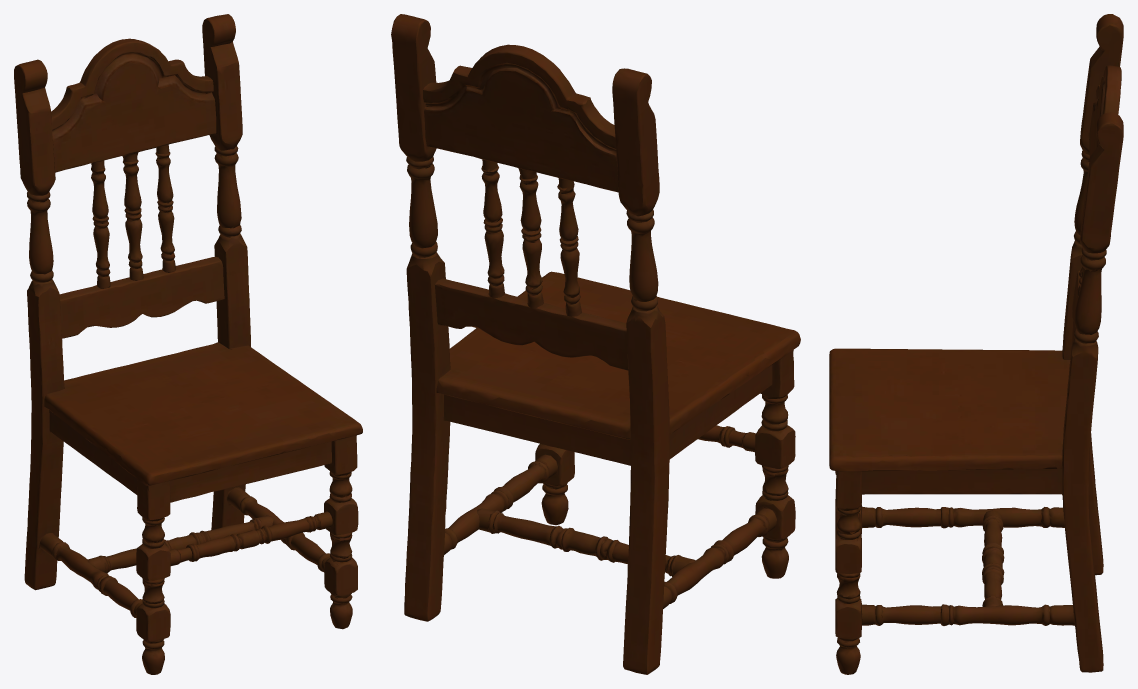
File: diningchair.glb
3 views of the same model, side by side, from view 1: azimuth 30°, elevation 25°; view 2: azimuth 150°, elevation 25°; view 3: azimuth 270°, elevation 25° (orthographic). The views are drawn at different scales.
Visible parts, largest first — view 1: Mesh; view 2: Mesh; view 3: Mesh.
Boxes of the visible parts, x1=… form: Mesh: x1=14, y1=14, x2=362, y2=674; Mesh: x1=391, y1=14, x2=800, y2=674; Mesh: x1=829, y1=14, x2=1123, y2=674.
Size of the model in its own units: 0.8257 by 1.9 by 0.9125.
Materials: 1 (1 with a texture image).
